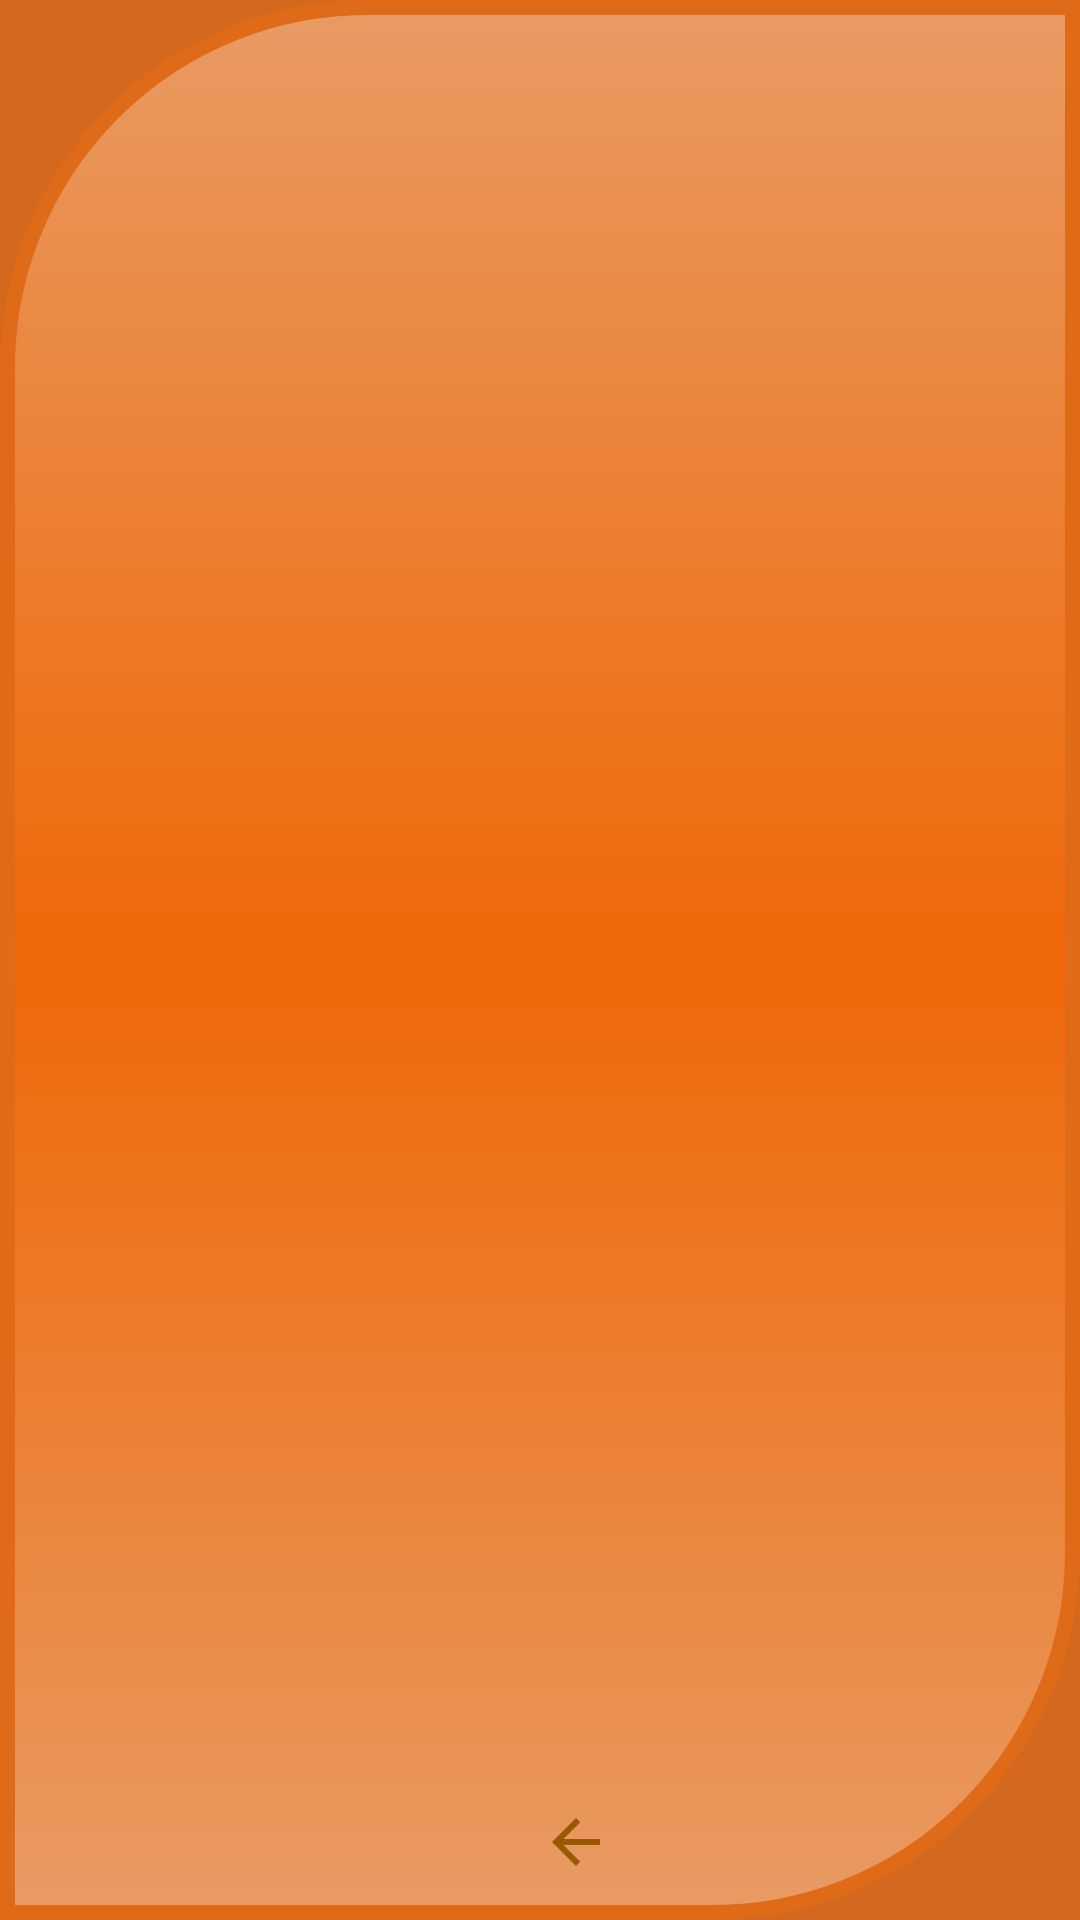

Screen size 1080 × 1920. Icon name, then its box in pixels as (x1, y1, x2, y2):
arrow back: (552, 1818, 600, 1866)
